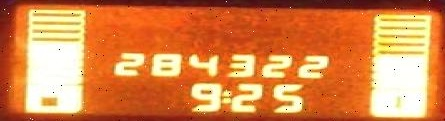2: (228, 82, 262, 112), (258, 54, 292, 78), (110, 52, 144, 76), (295, 54, 328, 78)
3: (223, 53, 255, 77)
4: (187, 53, 217, 76)
5: (270, 83, 302, 112)
8: (149, 53, 180, 76)
9: (187, 81, 220, 111)
X: (220, 89, 230, 103)
